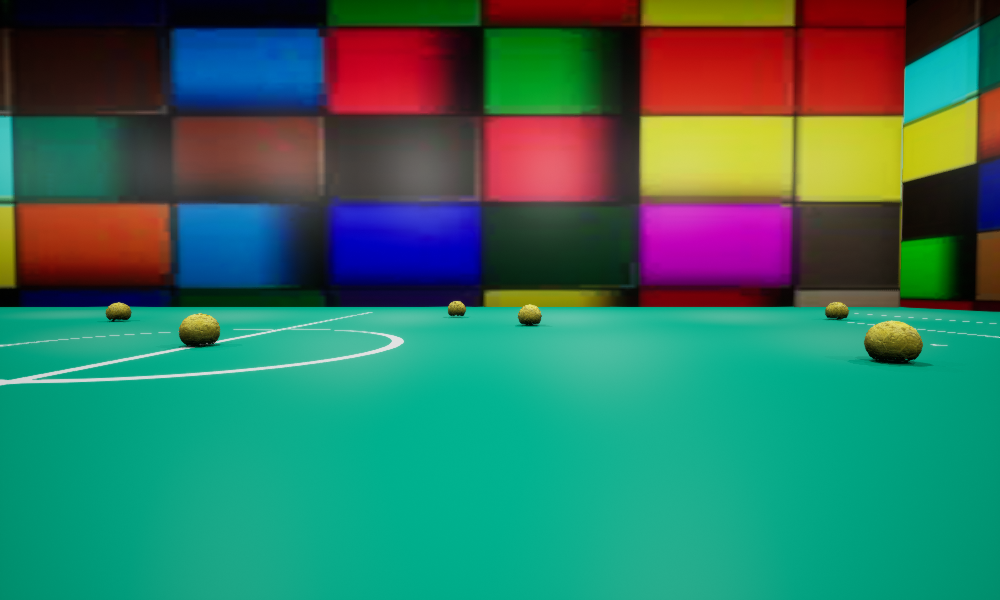b: (864, 320, 922, 363), (179, 313, 219, 345), (518, 304, 541, 325), (106, 302, 131, 320), (825, 302, 848, 319), (448, 301, 465, 315)
